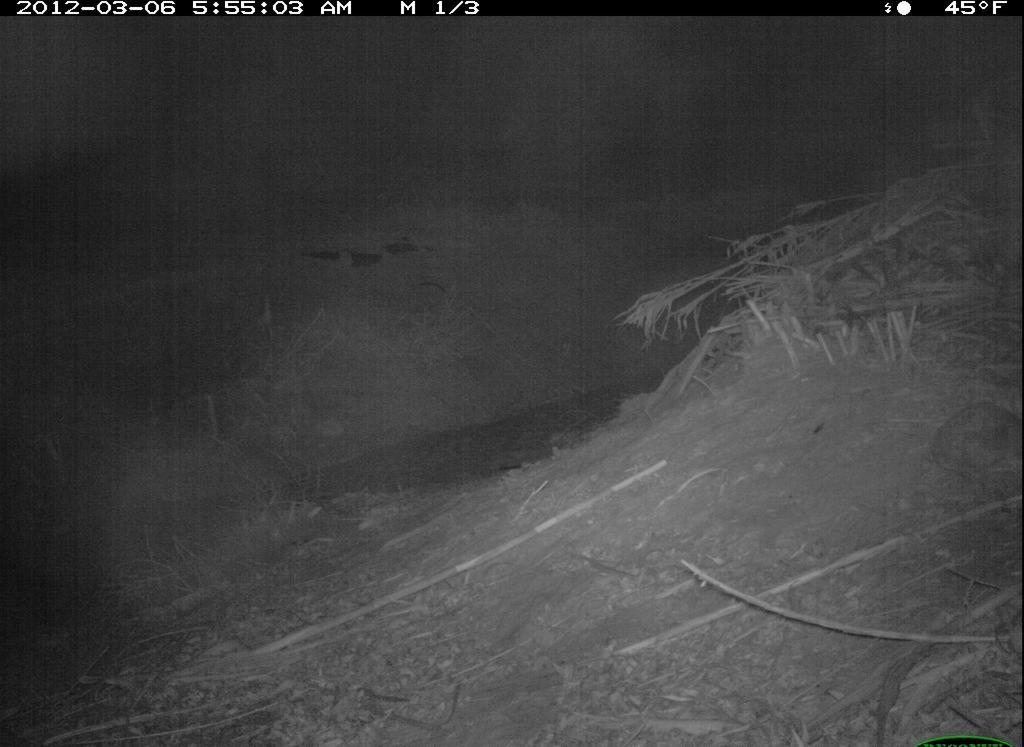rabbit: (925, 394, 1024, 493)
